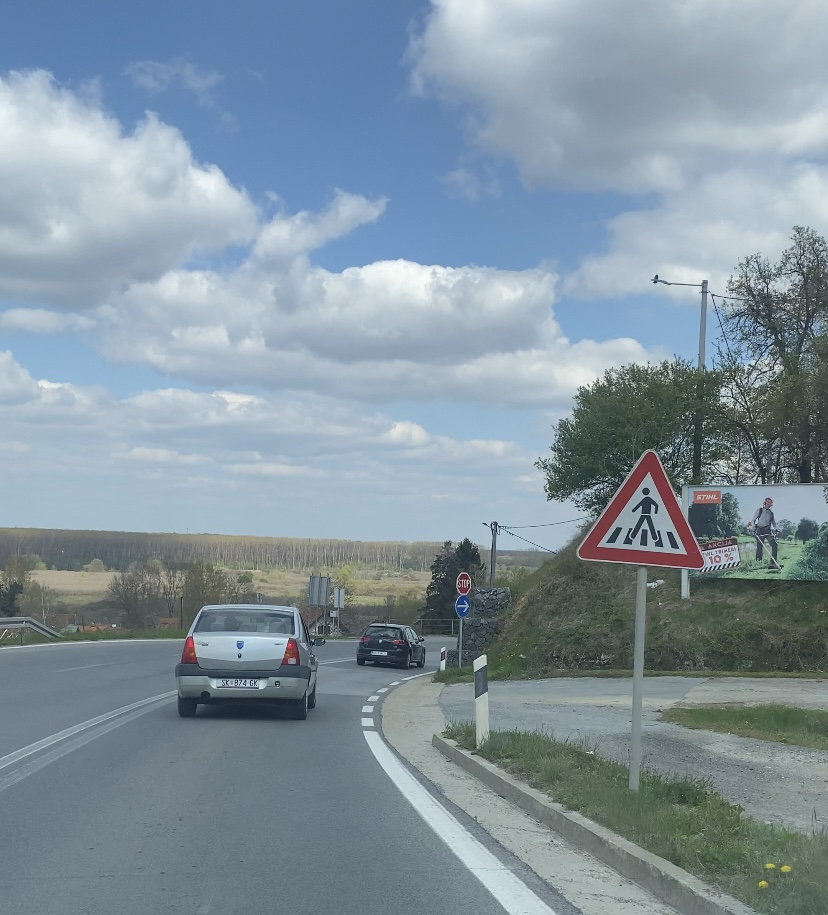Obavezno zaustavljanje: (456, 572, 472, 595)
Približavanje pješačkom prijelazu: (576, 448, 706, 569)
